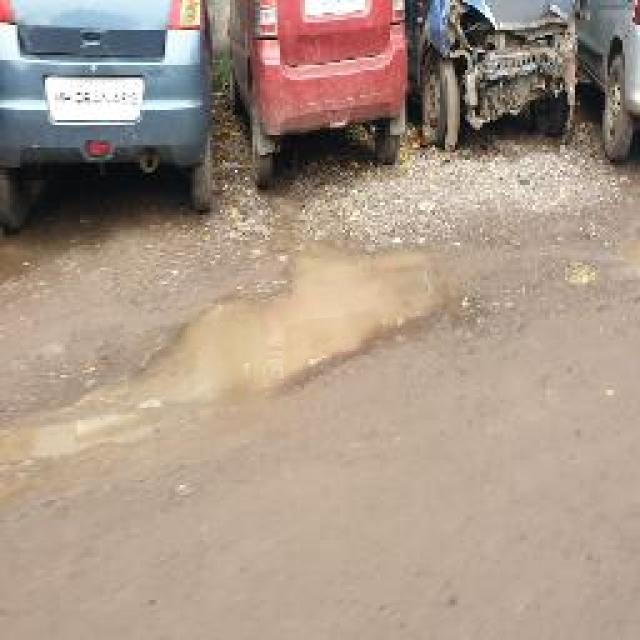puddle: (123, 247, 454, 404)
